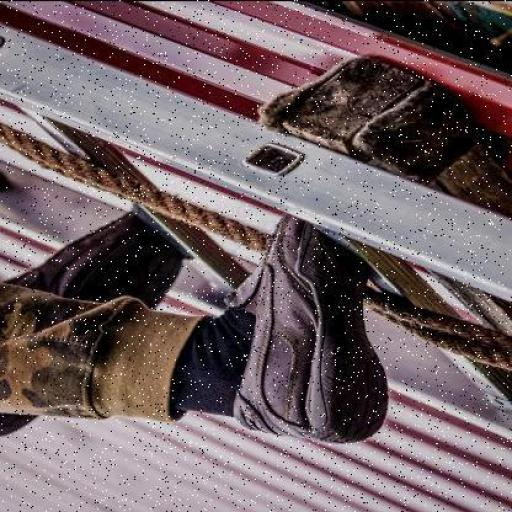safety_shoe: (232, 219, 385, 439)
